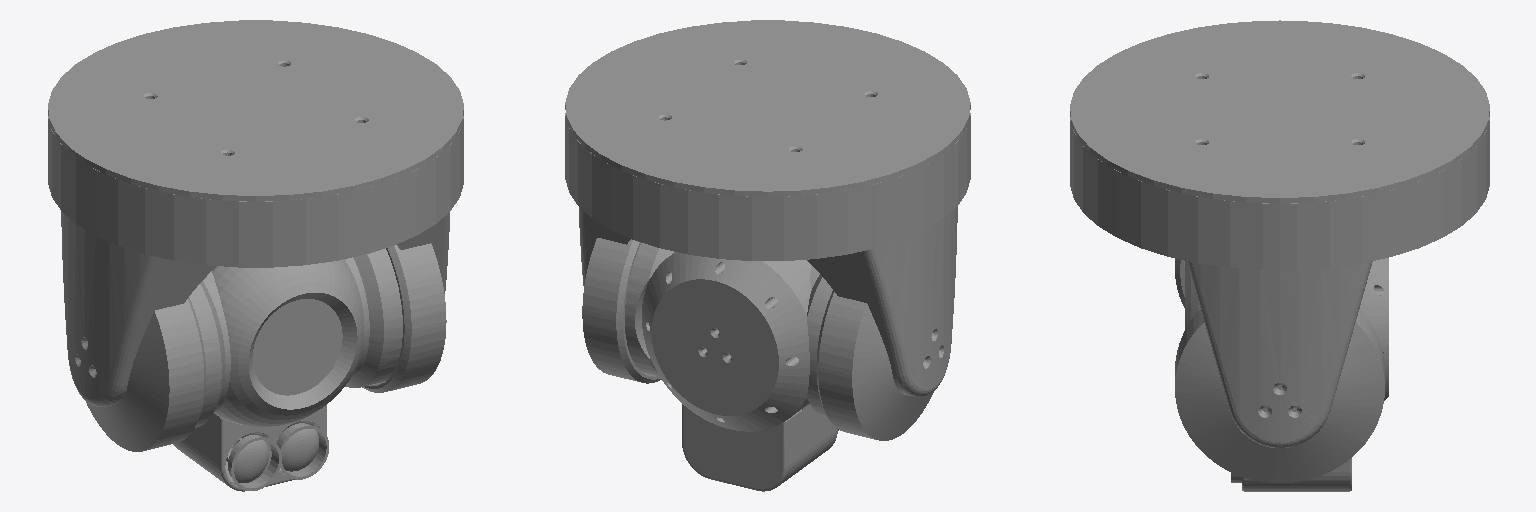
URDF robot description (360_Camera_Model):
<?xml version="1.0" encoding="utf-8"?>
<!-- This URDF was automatically created by SolidWorks to URDF Exporter! Originally created by [author] ([email redacted]) 
     Commit Version: 1.5.1-0-g916b5db  Build Version: 1.5.7152.31018
     For more information, please see http://wiki.ros.org/sw_urdf_exporter -->
<robot
  name="360_Camera_Model">
  <link name="world" />
  <link
    name="Fixed_base">
    <inertial>
      <origin
        xyz="3.428E-06 -1.7595E-06 0.0049168"
        rpy="0 0 0" />
      <mass
        value="0.19268" />
      <inertia
        ixx="0.00057822"
        ixy="2.1481E-12"
        ixz="6.968E-13"
        iyy="0.00057822"
        iyz="2.7969E-13"
        izz="0.0011423" />
    </inertial>
    <visual>
      <origin
        xyz="0 0 0"
        rpy="0 0 0" />
      <geometry>
        <mesh
          filename="package://360_Camera_Model/meshes/Fixed_base.STL" />
      </geometry>
      <material
        name="">
        <color
          rgba="0.62745 0.62745 0.62745 1" />
      </material>
    </visual>
    <collision>
      <origin
        xyz="0 0 0"
        rpy="0 0 0" />
      <geometry>
        <mesh
          filename="package://360_Camera_Model/meshes/Fixed_base.STL" />
      </geometry>
    </collision>
  </link>
  <joint name="base_to_world" type="fixed">
    <origin xyz="0 0 0" rpy="0 0 0" />
    <parent link="world" />
    <child link="Fixed_base" />
  </joint>

  <link
    name="Rotator_1">
    <inertial>
      <origin
        xyz="0.00173326666598543 -1.18295111714573E-06 -0.0292416563739805"
        rpy="0 0 0" />
      <mass
        value="0.211155297251793" />
      <inertia
        ixx="0.00013475741543411"
        ixy="1.88764504105626E-09"
        ixz="4.8584569978704E-09"
        iyy="0.000401037477932494"
        iyz="-6.28659317173641E-09"
        izz="0.000514587215846427" />
    </inertial>
    <visual>
      <origin
        xyz="0 0 0"
        rpy="0 0 0" />
      <geometry>
        <mesh
          filename="package://360_Camera_Model/meshes/Rotator_1.STL" />
      </geometry>
      <material
        name="">
        <color
          rgba="0.627450980392157 0.627450980392157 0.627450980392157 1" />
      </material>
    </visual>
    <collision>
      <origin
        xyz="0 0 0"
        rpy="0 0 0" />
      <geometry>
        <mesh
          filename="package://360_Camera_Model/meshes/Rotator_1.STL" />
      </geometry>
    </collision>
  </link>
  
  <joint
    name="Rotator_1_joint"
    type="revolute">
    <origin
      xyz="0 0 0"
      rpy="0 0 0" />
    <parent
      link="Fixed_base" />
    <child
      link="Rotator_1" />
    <axis
      xyz="0 0 -1" />
    <limit
      lower="0"
      upper="0"
      effort="0"
      velocity="0" />
  </joint>
  <link
    name="Rotator_2">
    <inertial>
      <origin
        xyz="-0.0684967556376185 0.0174739924993098 -0.00437415359482138"
        rpy="0 0 0" />
      <mass
        value="0.239977822875698" />
      <inertia
        ixx="0.000226034546072867"
        ixy="6.43769980482789E-08"
        ixz="-2.46933192968024E-08"
        iyy="0.000379549361150043"
        iyz="-4.31497247906742E-09"
        izz="0.000230015780419545" />
    </inertial>
    <visual>
      <origin
        xyz="0 0 0"
        rpy="0 0 0" />
      <geometry>
        <mesh
          filename="package://360_Camera_Model/meshes/Rotator_2.STL" />
      </geometry>
      <material
        name="">
        <color
          rgba="0.627450980392157 0.627450980392157 0.627450980392157 1" />
      </material>
    </visual>
    <collision>
      <origin
        xyz="0 0 0"
        rpy="0 0 0" />
      <geometry>
        <mesh
          filename="package://360_Camera_Model/meshes/Rotator_2.STL" />
      </geometry>
    </collision>
  </link>
  <joint
    name="Rotator_2_joint"
    type="revolute">
    <origin
      xyz="0.070003 0 -0.096227"
      rpy="0 0 0" />
    <parent
      link="Rotator_1" />
    <child
      link="Rotator_2" />
    <axis
      xyz="-1 0 0" />
    <limit
      lower="0"
      upper="0"
      effort="0"
      velocity="0" />
  </joint>
  <link
    name="Rotator_3">
    <inertial>
      <origin
        xyz="1.04640013953542E-06 -0.0462679452318092 -1.63593142939594E-05"
        rpy="0 0 0" />
      <mass
        value="0.0829452509097665" />
      <inertia
        ixx="1.68870403026113E-05"
        ixy="1.61131296618213E-08"
        ixz="3.42222671503696E-10"
        iyy="1.6875120646378E-05"
        iyz="1.42095814711735E-08"
        izz="1.69221502082657E-05" />
    </inertial>
    <visual>
      <origin
        xyz="0 0 0"
        rpy="0 0 0" />
      <geometry>
        <mesh
          filename="package://360_Camera_Model/meshes/Rotator_3.STL" />
      </geometry>
      <material
        name="">
        <color
          rgba="0.627450980392157 0.627450980392157 0.627450980392157 1" />
      </material>
    </visual>
    <collision>
      <origin
        xyz="0 0 0"
        rpy="0 0 0" />
      <geometry>
        <mesh
          filename="package://360_Camera_Model/meshes/Rotator_3.STL" />
      </geometry>
    </collision>
  </link>
  <joint
    name="Rotator_3_joint"
    type="revolute">
    <origin
      xyz="-0.07 0.040958 0"
      rpy="0 0 0" />
    <parent
      link="Rotator_2" />
    <child
      link="Rotator_3" />
    <axis
      xyz="0 -1 0" />
    <limit
      lower="0"
      upper="0"
      effort="0"
      velocity="0" />
  </joint>


  <transmission name="Rotator_1_trans">
    <type>transmission_interface/SimpleTransmission</type>
    <joint name="Rotator_1_joint">
    <hardwareInterface>hardware_interface/PositionJointInterface</hardwareInterface></joint>
    <actuator name="Rotator_1_motor">
    <hardwareInterface>hardware_interface/PositionJointInterface</hardwareInterface> <mechanicalReduction>1</mechanicalReduction>
    </actuator>
  </transmission>

    <transmission name="Rotator_2_trans">
    <type>transmission_interface/SimpleTransmission</type>
    <joint name="Rotator_2_joint">
    <hardwareInterface>hardware_interface/PositionJointInterface</hardwareInterface></joint>
    <actuator name="Rotator_2_motor">
    <hardwareInterface>hardware_interface/PositionJointInterface</hardwareInterface> <mechanicalReduction>1</mechanicalReduction>
    </actuator>
  </transmission>

    <transmission name="Rotator_3_trans">
    <type>transmission_interface/SimpleTransmission</type>
    <joint name="Rotator_3_joint">
    <hardwareInterface>hardware_interface/PositionJointInterface</hardwareInterface></joint>
    <actuator name="Rotator_3_motor">
    <hardwareInterface>hardware_interface/PositionJointInterface</hardwareInterface> <mechanicalReduction>1</mechanicalReduction>
    </actuator>
  </transmission>

  <gazebo>
    <plugin name="control"
    filename="libgazebo_ros_control.so">
    <robotNamespace>/</robotNamespace>
    </plugin>
  </gazebo>

  <gazebo reference="Fixed_base">
    <selfCollide>true</selfCollide>
  </gazebo>
  <gazebo reference="Rotator_1">
    <selfCollide>true</selfCollide>
  </gazebo>
  <gazebo reference="Rotator_2">
    <selfCollide>true</selfCollide>
  </gazebo>
  <gazebo reference="Rotator_3">
    <selfCollide>true</selfCollide>
  </gazebo>

</robot>

--- Render facts (derived) ---
Views: 3 orthographic renders of the robot side by side, from view 1: azimuth 30°, elevation 25°; view 2: azimuth 150°, elevation 25°; view 3: azimuth 270°, elevation 25°.
Model 360_Camera_Model with 5 links and 4 joints (3 revolute, 1 fixed), rooted at world, posed all joints at 0.
Links seen in each view (by area): view 1: Fixed_base, Rotator_1, Rotator_2, Rotator_3; view 2: Fixed_base, Rotator_2, Rotator_1; view 3: Fixed_base, Rotator_1, Rotator_2.
Link boxes in pixels (bbox=[...]): Fixed_base: bbox=[48, 20, 463, 267]; Rotator_1: bbox=[61, 211, 449, 451]; Rotator_2: bbox=[173, 248, 402, 491]; Rotator_3: bbox=[253, 299, 342, 395]; Fixed_base: bbox=[565, 20, 970, 260]; Rotator_2: bbox=[625, 243, 838, 491]; Rotator_1: bbox=[579, 206, 957, 440]; Fixed_base: bbox=[1070, 20, 1489, 270]; Rotator_1: bbox=[1175, 259, 1384, 482]; Rotator_2: bbox=[1185, 258, 1388, 491].
Bounding box of the posed robot: 0.2 × 0.1998 × 0.1928 m (x, y, z).
4 mesh visuals loaded from 4 distinct referenced files (4 binary STL).